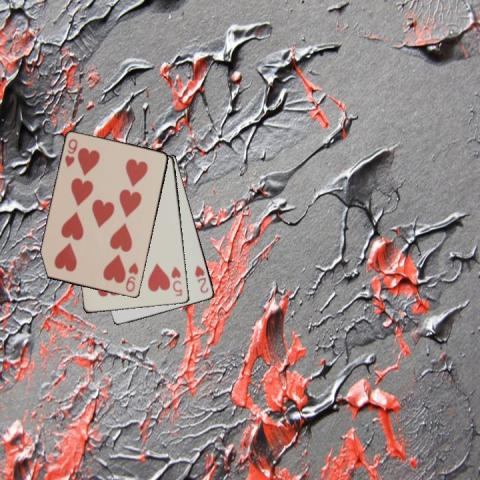2h: (192, 262, 210, 294)
5h: (169, 263, 184, 298)
9h: (123, 260, 140, 294), (62, 136, 79, 169)
